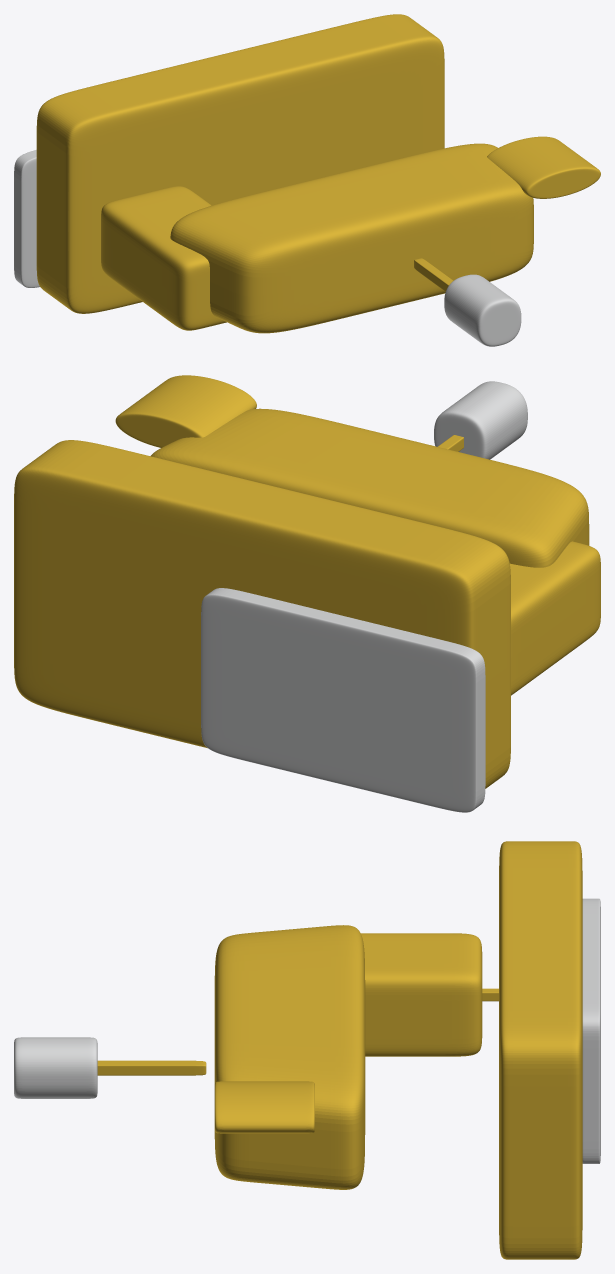
The model's file is sewing_machine_sq.glb.
3 views of the same model, one above another, from view 1: azimuth 30°, elevation 25°; view 2: azimuth 150°, elevation 25°; view 3: azimuth 270°, elevation 25° (orthographic). The views are drawn at different scales.
Parts seen in each view (by area): view 1: superquadric_0, superquadric_1, superquadric_2, superquadric_4, superquadric_6, superquadric_7, superquadric_5; view 2: superquadric_0, superquadric_7, superquadric_1, superquadric_2, superquadric_4, superquadric_6; view 3: superquadric_0, superquadric_1, superquadric_2, superquadric_4, superquadric_6, superquadric_7, superquadric_5.
Boxes of the visible parts, <box> form: superquadric_0: <box>36,14,444,313</box>; superquadric_1: <box>170,143,533,333</box>; superquadric_2: <box>101,186,226,330</box>; superquadric_4: <box>487,136,600,198</box>; superquadric_6: <box>444,274,521,346</box>; superquadric_7: <box>14,150,39,287</box>; superquadric_5: <box>414,258,453,291</box>; superquadric_0: <box>14,440,510,788</box>; superquadric_7: <box>201,588,485,812</box>; superquadric_1: <box>150,408,589,567</box>; superquadric_2: <box>510,541,600,695</box>; superquadric_4: <box>115,375,256,447</box>; superquadric_6: <box>434,381,527,459</box>; superquadric_0: <box>499,841,582,1259</box>; superquadric_1: <box>214,925,365,1189</box>; superquadric_2: <box>361,933,482,1056</box>; superquadric_4: <box>214,1081,314,1133</box>; superquadric_6: <box>14,1037,97,1098</box>; superquadric_7: <box>582,898,600,1163</box>; superquadric_5: <box>97,1060,206,1075</box>.
Size of the model in its own units: 0.9544 by 0.4273 by 1.
